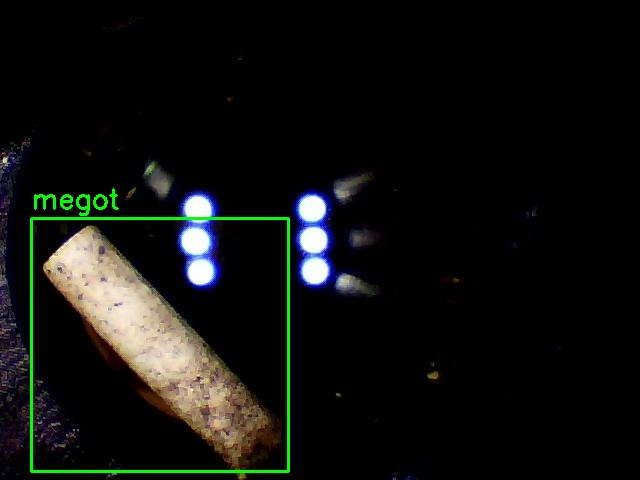megot: (31, 218, 288, 471)
